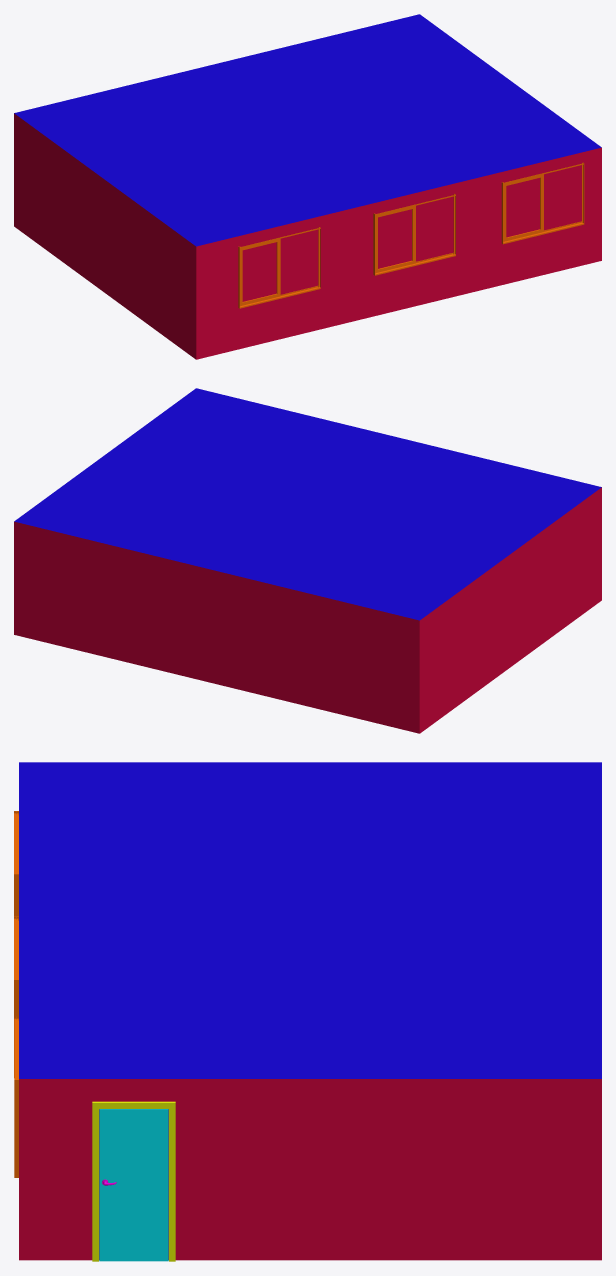
File: room.fbx
3 renders of one model, top to bottom at view 1: azimuth 30°, elevation 25°; view 2: azimuth 150°, elevation 25°; view 3: azimuth 270°, elevation 25°, orthographic. The views are drawn at different scales.
Visible parts, largest first — view 1: Ceiling, Ceiling.002; view 2: Ceiling; view 3: Ceiling, Ceiling.001, Ceiling.002.
Boxes of the visible parts, <box> form: Ceiling: <box>14,14,601,359</box>; Ceiling.002: <box>238,162,584,308</box>; Ceiling: <box>14,388,601,733</box>; Ceiling: <box>19,762,601,1260</box>; Ceiling.001: <box>92,1101,175,1261</box>; Ceiling.002: <box>14,811,18,1177</box>.
Size of the model in its own units: 910 by 240 by 706.
